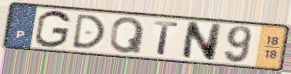9: (221, 25, 256, 65)
D: (70, 13, 107, 50)
G: (33, 9, 73, 50)
N: (179, 20, 224, 63)
Q: (108, 16, 147, 55)
T: (153, 19, 180, 57)
